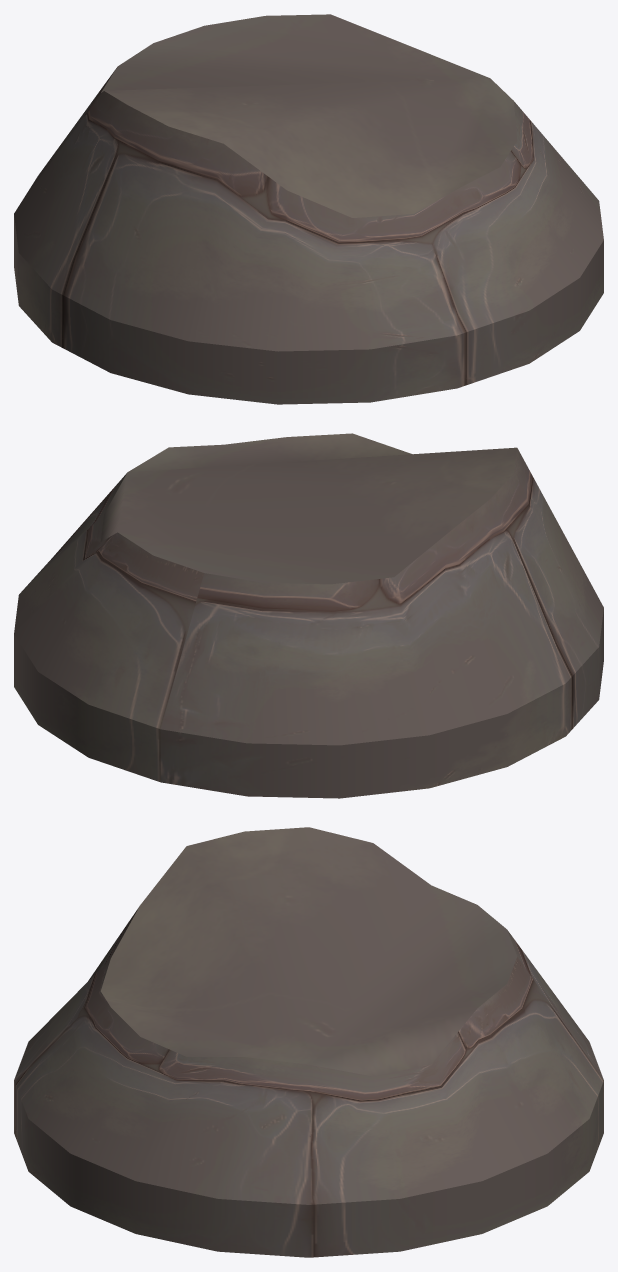
The model's file is PillarDamaged3_1.fbx.
The picture shows the model from 3 angles, top to bottom: view 1: azimuth 30°, elevation 25°; view 2: azimuth 150°, elevation 25°; view 3: azimuth 270°, elevation 25°; orthographic projection.
Visible parts, largest first — view 1: polySurface63; view 2: polySurface63; view 3: polySurface63.
Part boxes in pixels (x1,y1,x2,y2): polySurface63: [14, 14, 603, 404]; polySurface63: [14, 433, 603, 798]; polySurface63: [14, 827, 603, 1257].
Size of the model in its own units: 55.85 by 22.76 by 55.85.
